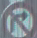Don't turn right: (3, 1, 36, 36)
